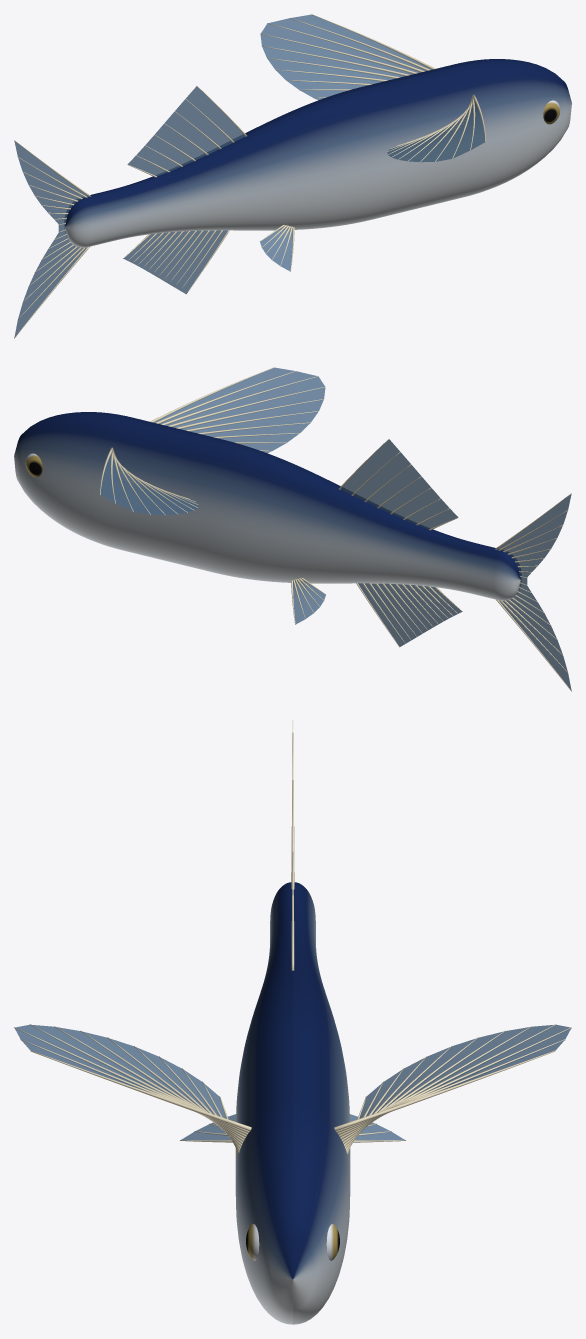
File: winged-zebrafish.glb
3 renders of one model, top to bottom at view 1: azimuth 30°, elevation 25°; view 2: azimuth 150°, elevation 25°; view 3: azimuth 270°, elevation 25°, orthographic. The views are drawn at different scales.
Parts seen in each view (by area): view 1: skin_R, pectoral_fin_L, dorsal_fin, caudal_fin, anal_fin, pectoral_fin_R, caudal_fin_rays, skin_L, anal_fin_rays, pelvic_fin_R, dorsal_fin_rays; view 2: skin_L, pectoral_fin_R, dorsal_fin, caudal_fin, anal_fin, pectoral_fin_L, caudal_fin_rays, skin_R, anal_fin_rays, pelvic_fin_L, dorsal_fin_rays; view 3: skin_L, skin_R, pectoral_fin_L, pectoral_fin_R, pectoral_fin_ray_L_01, pectoral_fin_ray_R_01.
Boxes of the visible parts, x1,y1,x2,y2 form: skin_R: [65, 60, 571, 247]; pectoral_fin_L: [260, 14, 431, 100]; dorsal_fin: [127, 86, 245, 176]; caudal_fin: [14, 141, 88, 337]; anal_fin: [124, 230, 227, 293]; pectoral_fin_R: [387, 100, 485, 162]; caudal_fin_rays: [14, 140, 90, 338]; skin_L: [64, 59, 545, 232]; anal_fin_rays: [123, 230, 229, 294]; pelvic_fin_R: [260, 227, 292, 271]; dorsal_fin_rays: [127, 86, 246, 177]; skin_L: [14, 413, 520, 600]; pectoral_fin_R: [154, 367, 325, 453]; dorsal_fin: [340, 439, 458, 529]; caudal_fin: [497, 494, 571, 690]; anal_fin: [358, 583, 461, 646]; pectoral_fin_L: [100, 453, 198, 515]; caudal_fin_rays: [495, 493, 571, 691]; skin_R: [40, 412, 521, 585]; anal_fin_rays: [356, 583, 462, 647]; pelvic_fin_L: [293, 580, 325, 624]; dorsal_fin_rays: [339, 439, 458, 530]; skin_L: [293, 882, 350, 1324]; skin_R: [235, 882, 292, 1324]; pectoral_fin_L: [359, 1024, 571, 1118]; pectoral_fin_R: [14, 1024, 226, 1118]; pectoral_fin_ray_L_01: [334, 1050, 555, 1131]; pectoral_fin_ray_R_01: [30, 1050, 251, 1131].
Size of the model in its own units: 0.939 by 0.3352 by 0.5401.
